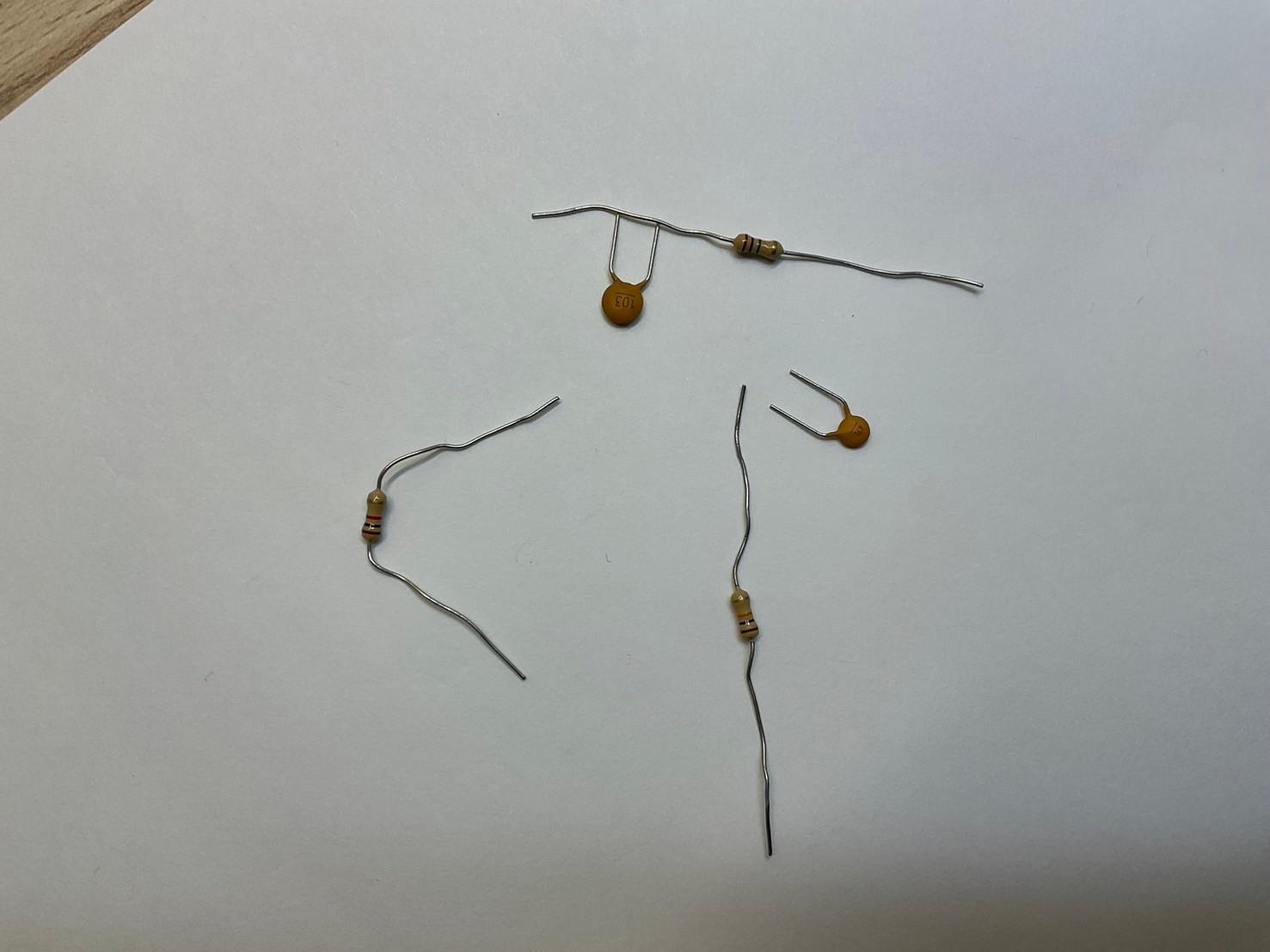resistor: (731, 232, 787, 266), (730, 589, 763, 646), (358, 490, 388, 546)
